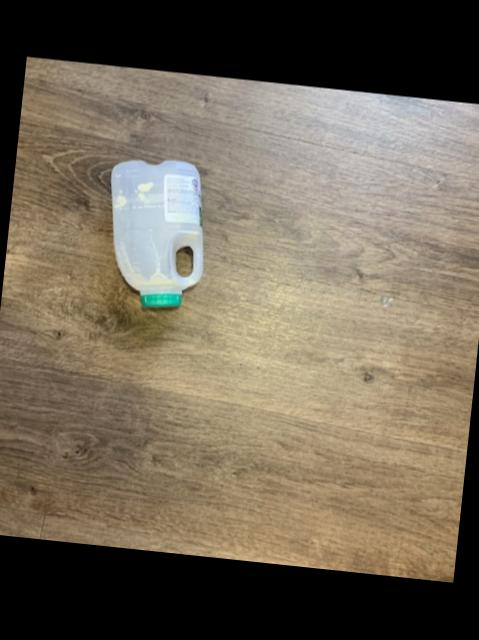plastic: (112, 162, 203, 309)
